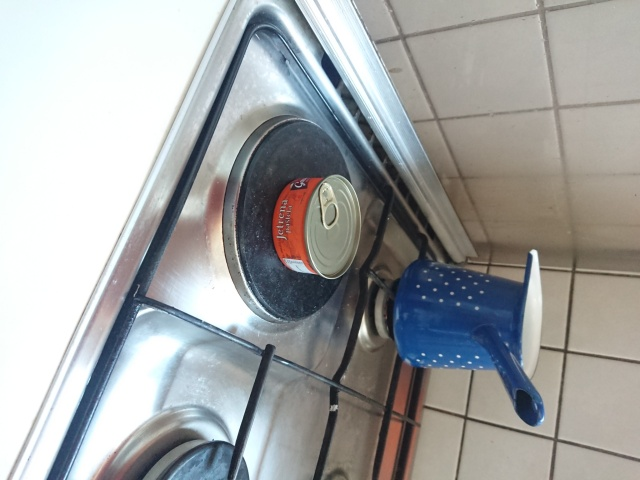Gavrilovic Pork Liver Pate 100g: (269, 172, 363, 281)
